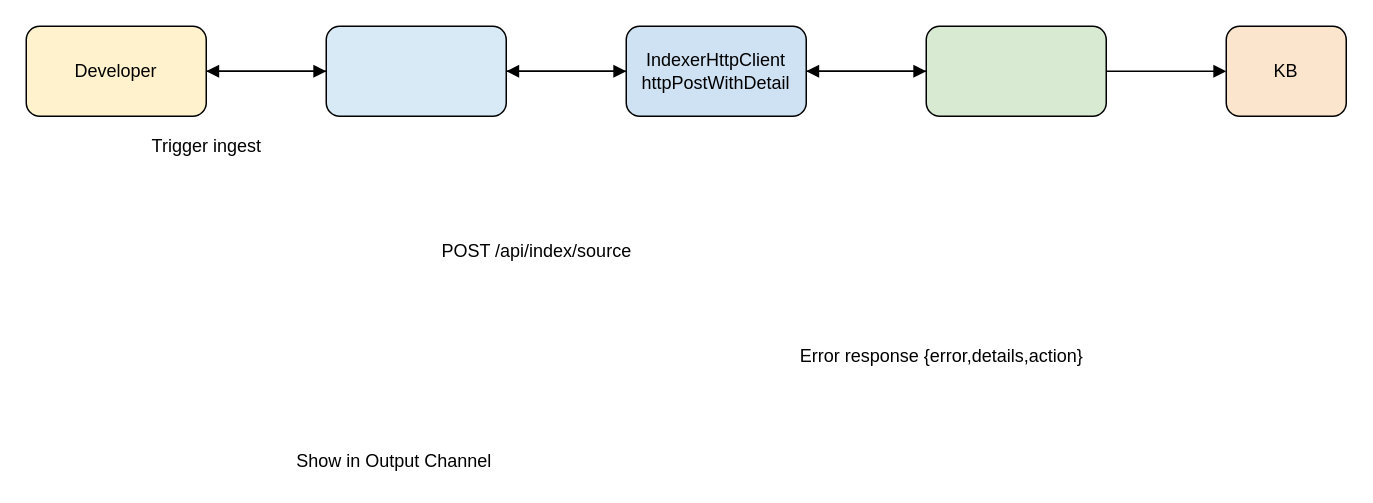
Some shapes in this 1373 by 503 pixel diagram are drawn without their labels. Here are the shapes that lost their labels. From the top down, the centre of each, then its label:
point 415,70: Extension IndexingService
point 1015,70: Backend api-index.ts
